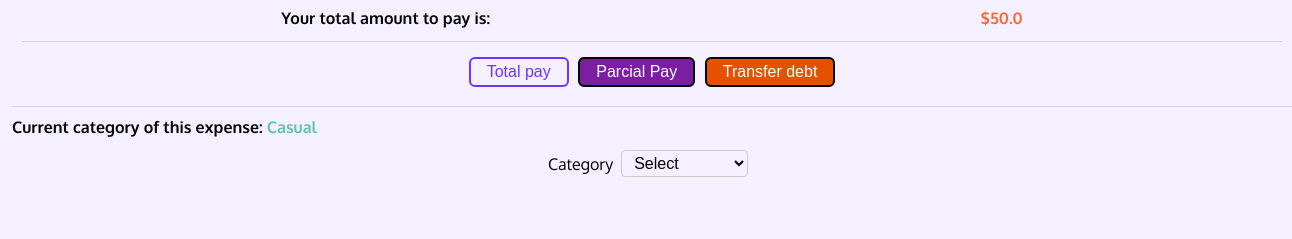
Test: User can select an option for the categeory and button appears
Expected: the button "Set Category" is not shown
Select "Casual" in the dropdown at {"x": 685, "y": 164}, box [621,150,748,177]
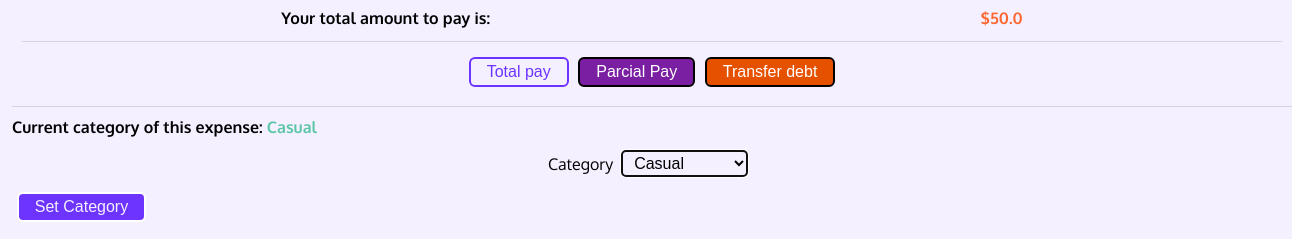
Now the button "Set Category" is shown, box [17,192,146,222]
